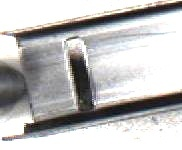40ngpress: (0, 13, 134, 140)
